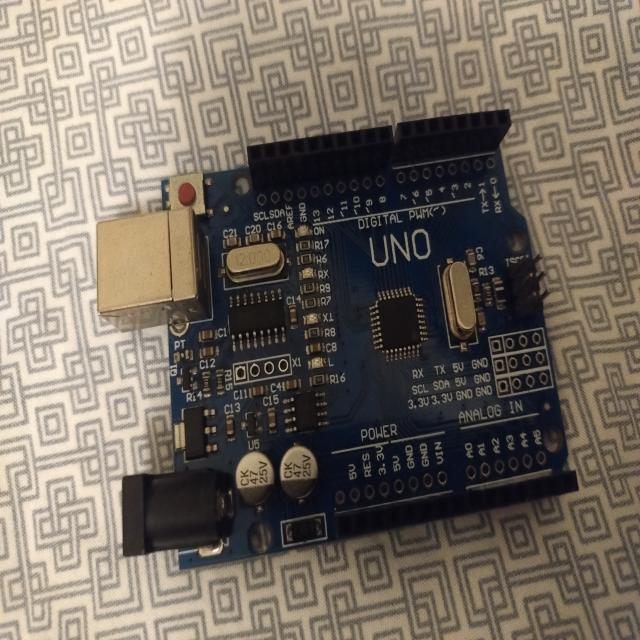arduino: (92, 94, 591, 580)
